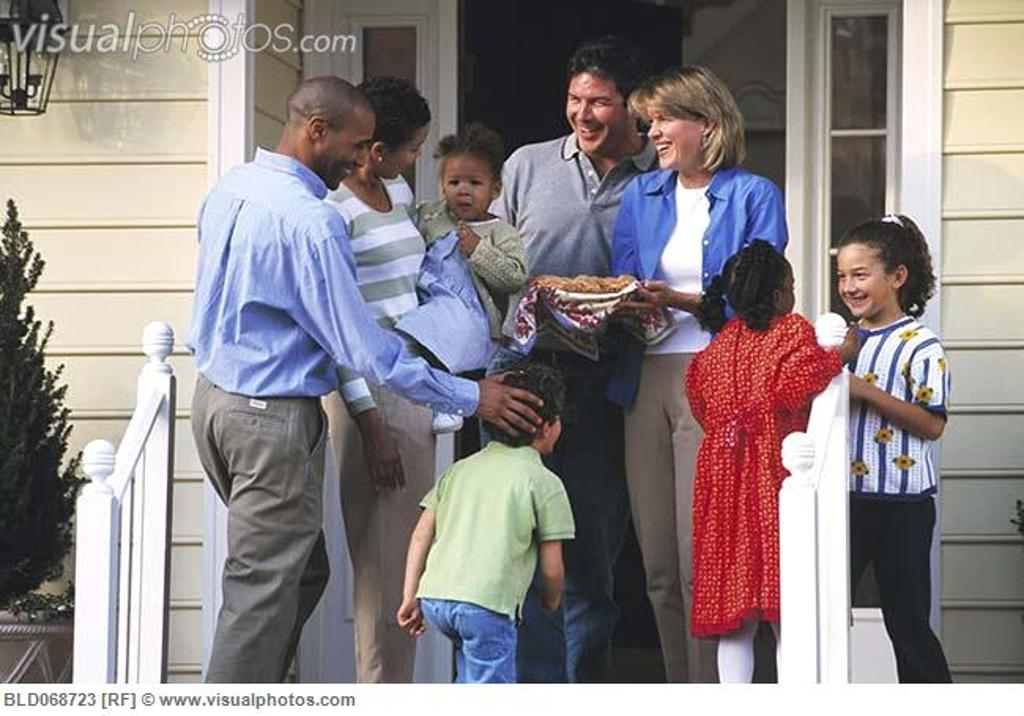face: (317, 117, 373, 190), (568, 78, 623, 150), (837, 249, 892, 315), (649, 101, 704, 167), (444, 156, 490, 219), (382, 127, 428, 178), (532, 397, 561, 450), (765, 266, 795, 317)
